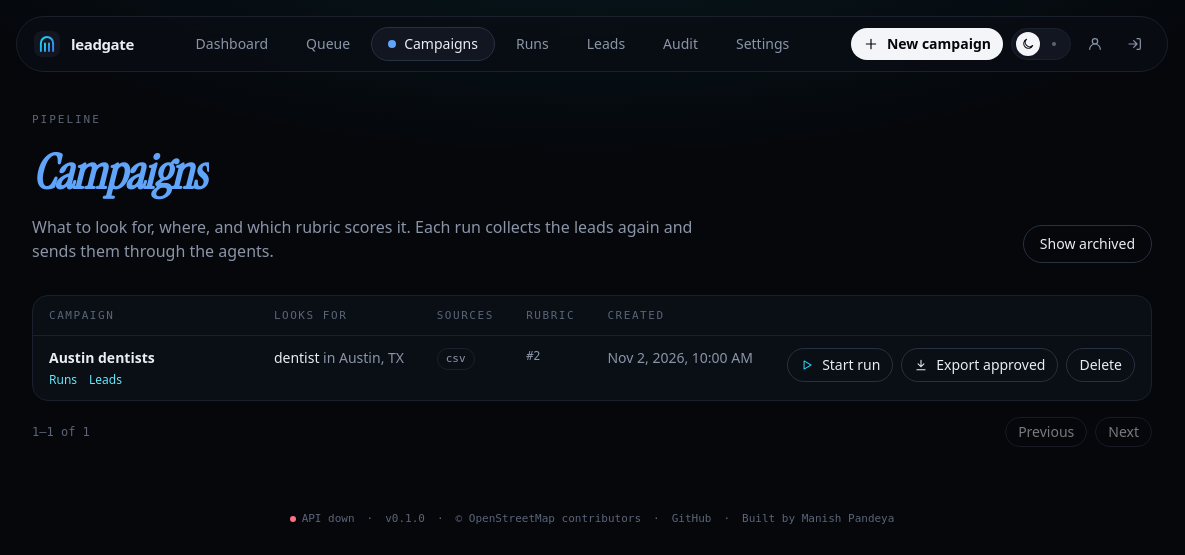
Test: CampaignsPage › shows a failed export
The width and height of the screenshot is (1185, 555).
Click the button "Export approved" at (980, 365), box [901, 348, 1058, 382]
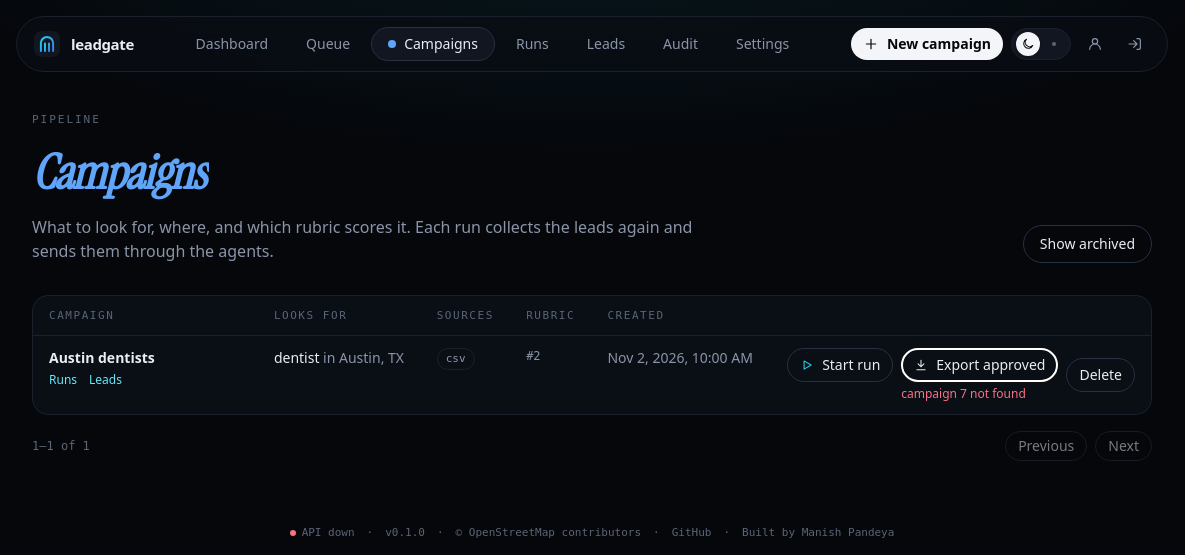
Now the message reads "campaign 7 not found", box [901, 385, 1026, 402]
